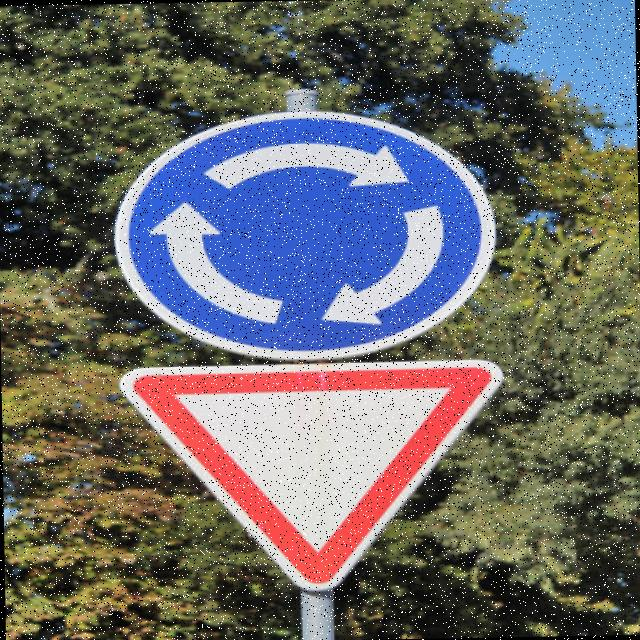round_about: (94, 110, 503, 364)
